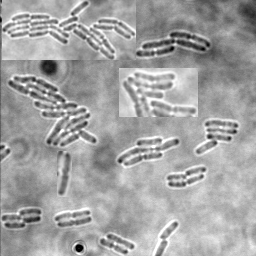Dividing: (57, 151, 72, 197), (167, 175, 204, 189), (99, 238, 128, 255), (54, 209, 90, 222), (56, 217, 92, 228)
Microcolony: (2, 0, 136, 60), (7, 76, 98, 147), (119, 68, 198, 117), (117, 137, 180, 168), (136, 32, 211, 57), (195, 120, 238, 155), (1, 208, 42, 229)
Rod: (106, 233, 135, 251), (157, 222, 178, 240), (184, 167, 206, 177), (166, 174, 187, 183)
